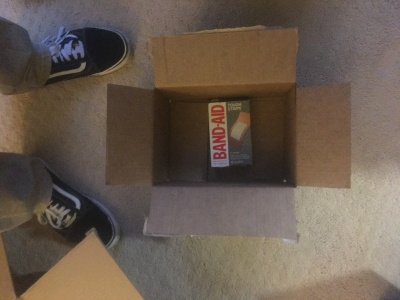innerbox: (155, 88, 296, 188)
outerbox: (107, 32, 354, 246)
product: (206, 101, 255, 168)
